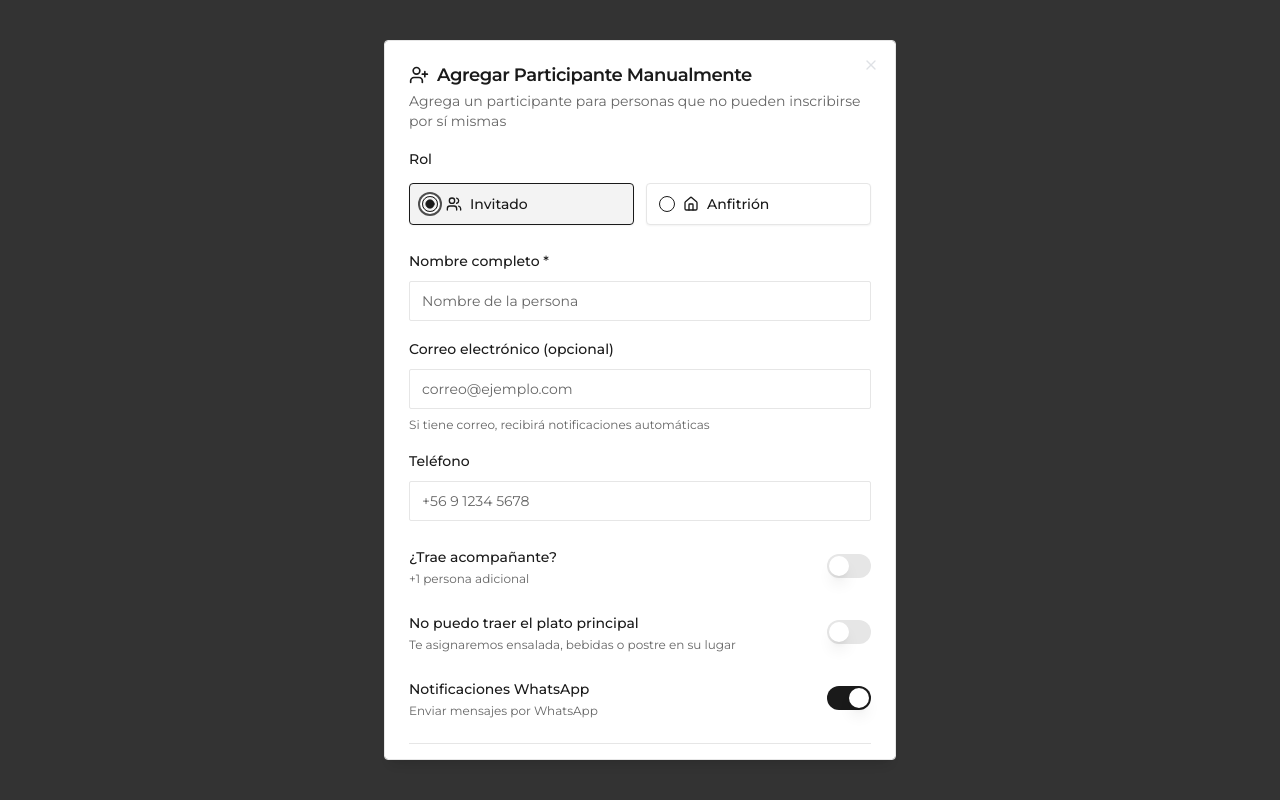
Test case: AddParticipantDialog — plato principal › resetForm devuelve el switch a apagado
Later steps or results of the test are not shown.
Click the switch named "No puedo traer el plato principal" in the row of "No puedo traer el plato principal".
click(849, 632)  # box [827,620,871,644]
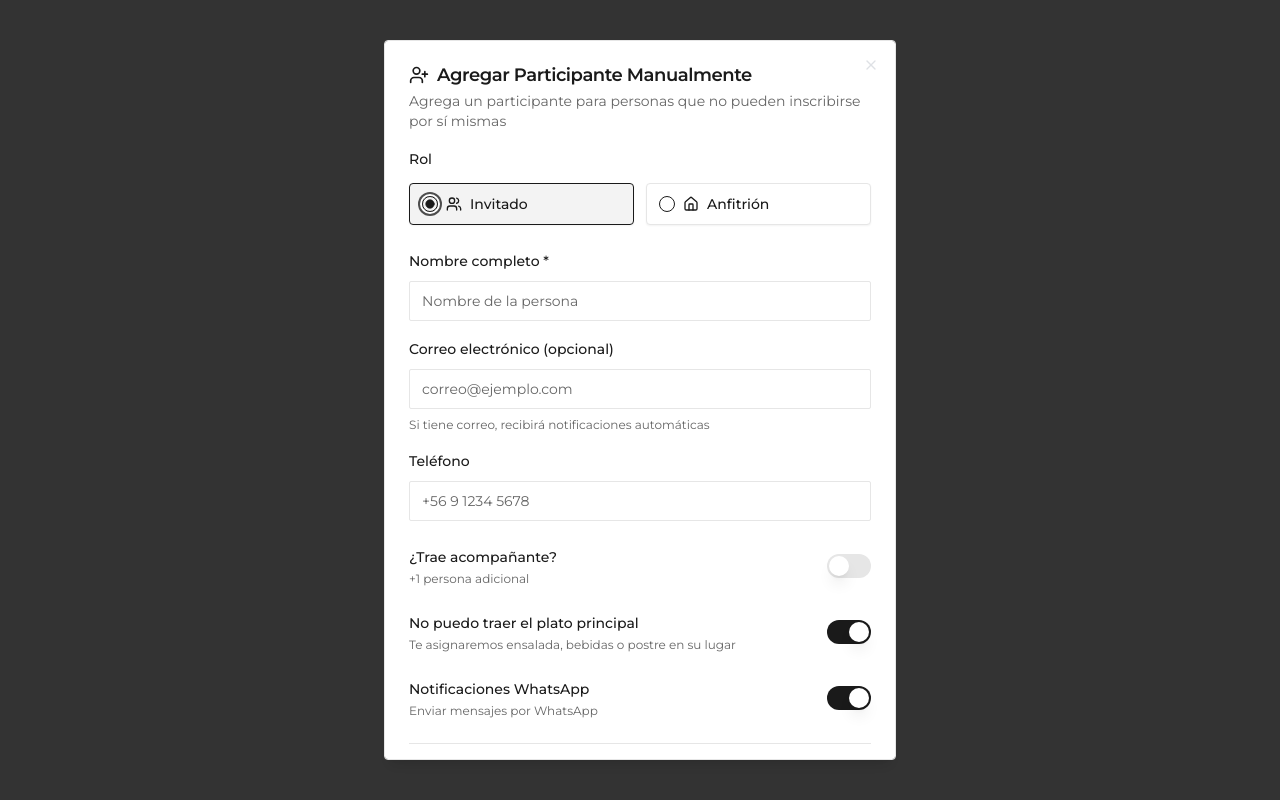
Expected: the switch named "No puedo traer el plato principal" in the row of "No puedo traer el plato principal" is checked, [827,620,871,644]
